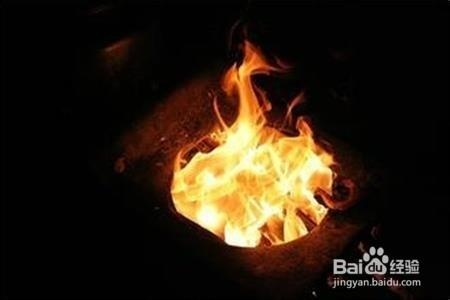fire: (172, 36, 339, 244)
